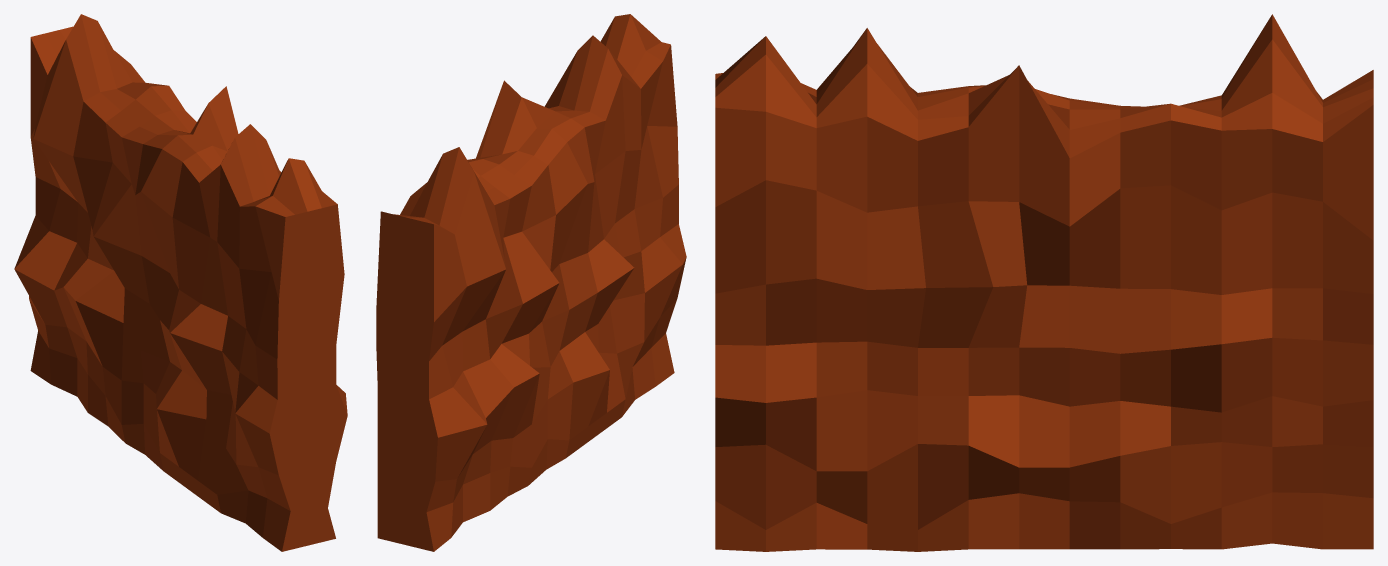
File: Hell Wall 01.fbx
The picture shows the model from 3 angles, left to right: view 1: azimuth 30°, elevation 25°; view 2: azimuth 150°, elevation 25°; view 3: azimuth 270°, elevation 25°; orthographic projection. The views are drawn at different scales.
Parts seen in each view (by area): view 1: Hell Wall; view 2: Hell Wall; view 3: Hell Wall.
Part boxes in pixels (x1=…): Hell Wall: x1=14, y1=14, x2=347, y2=551; Hell Wall: x1=376, y1=14, x2=686, y2=551; Hell Wall: x1=715, y1=14, x2=1373, y2=551.
Bounding box in the file's own units: 1400 × 1196 × 395.
